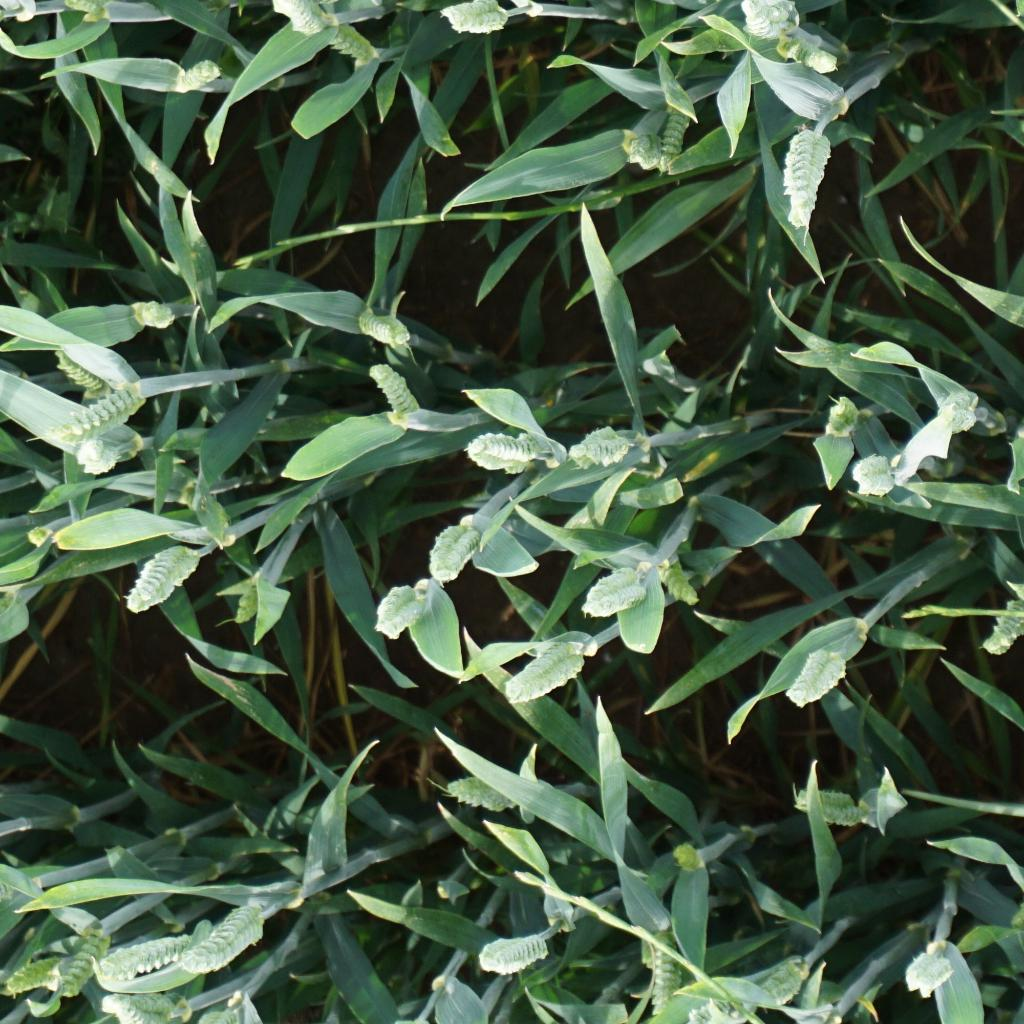0-0: (194, 897, 278, 973), (778, 126, 839, 229), (502, 632, 586, 705), (47, 385, 140, 444), (130, 544, 207, 611), (88, 937, 207, 980), (56, 921, 114, 1000), (578, 559, 653, 619), (786, 641, 849, 709), (96, 984, 195, 1024), (468, 424, 544, 476), (428, 514, 486, 581), (640, 918, 679, 1015), (480, 922, 550, 976), (438, 769, 525, 811), (788, 783, 871, 827), (977, 583, 1024, 658), (374, 574, 425, 643), (0, 952, 74, 997), (750, 956, 809, 1011), (367, 360, 419, 419), (316, 15, 376, 65), (572, 421, 636, 467), (54, 340, 115, 388), (903, 940, 949, 1000), (656, 98, 692, 173), (357, 302, 418, 343), (0, 586, 31, 663), (439, 0, 509, 33), (778, 38, 839, 72), (852, 451, 896, 498), (67, 442, 122, 478), (269, 0, 327, 33), (660, 552, 693, 607), (741, 0, 787, 38), (180, 56, 225, 92), (232, 576, 267, 622), (941, 391, 979, 431), (627, 130, 668, 167), (827, 389, 858, 437)
